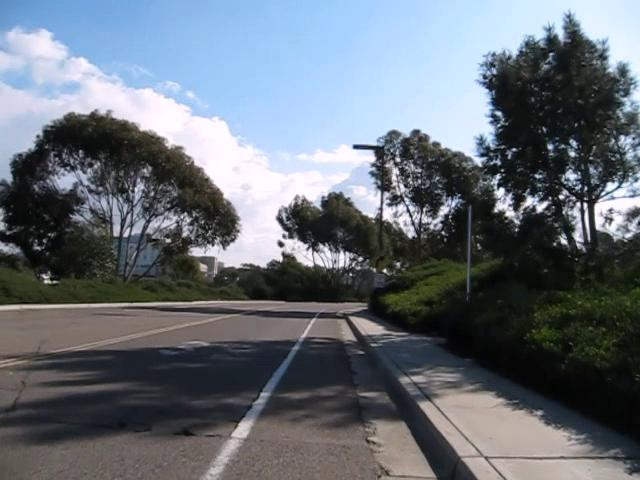speedLimit35: (372, 272, 387, 289)
